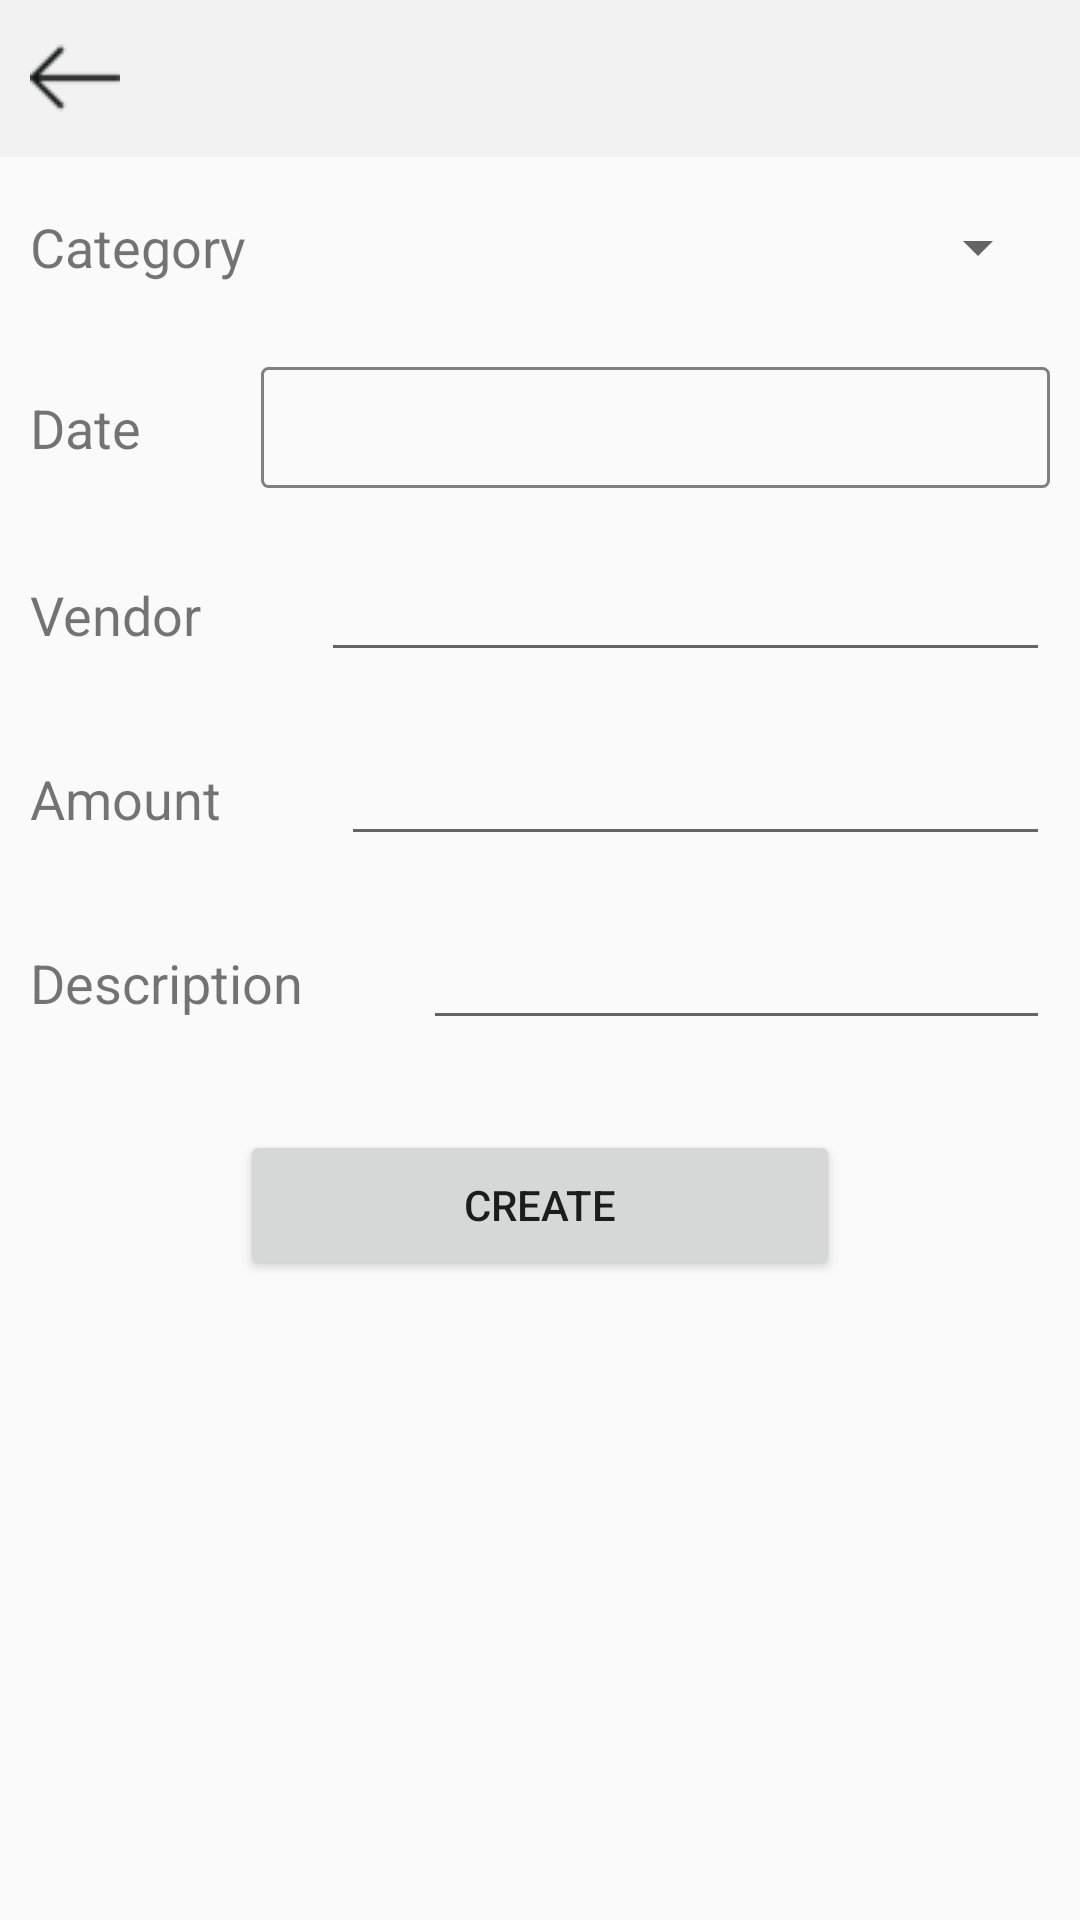

Screen size 1080 x 1920. Icon name, then its center in pixels as point (x, y):
back: point (75, 77)
